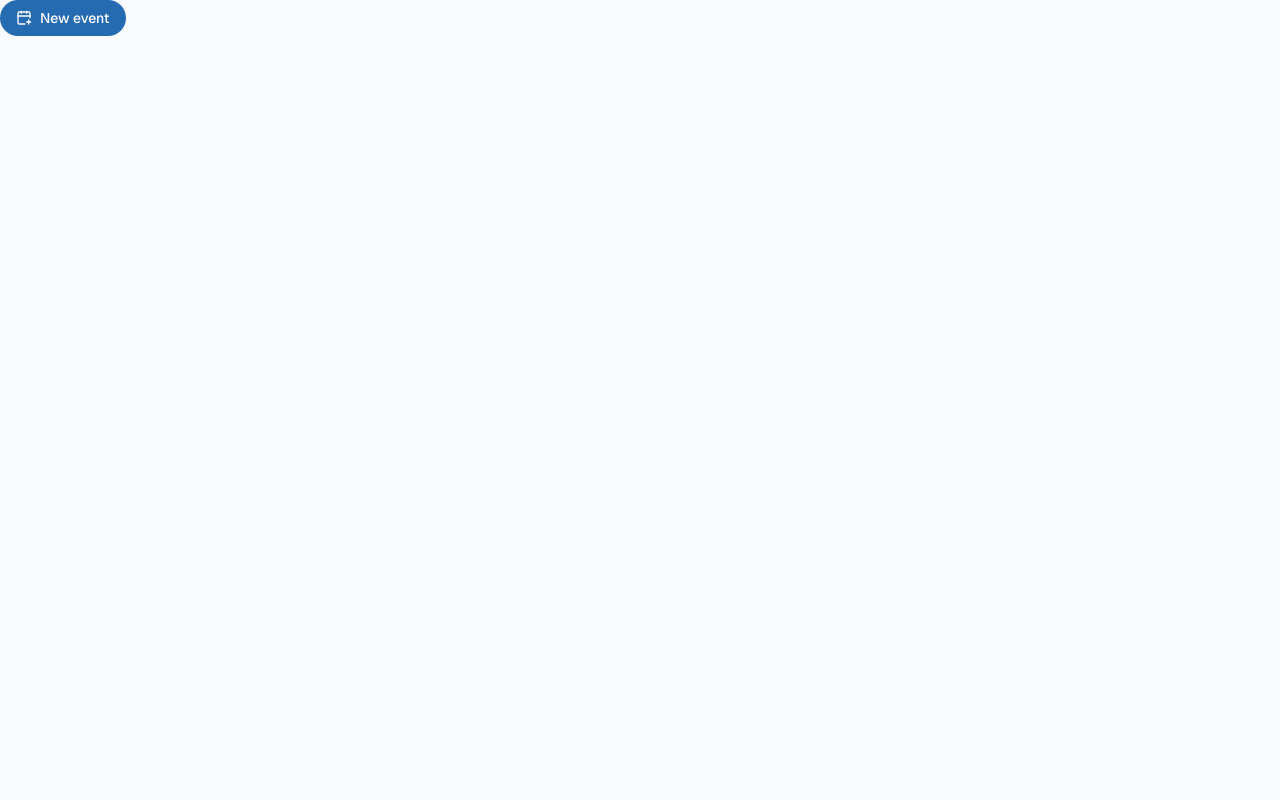
Test: event dialog › keeps entered clock times when the time zone changes and supports all-day ranges
Later steps or results of the test are not shown.
Click the button "New event" at (63, 18), box [0,0,126,36]
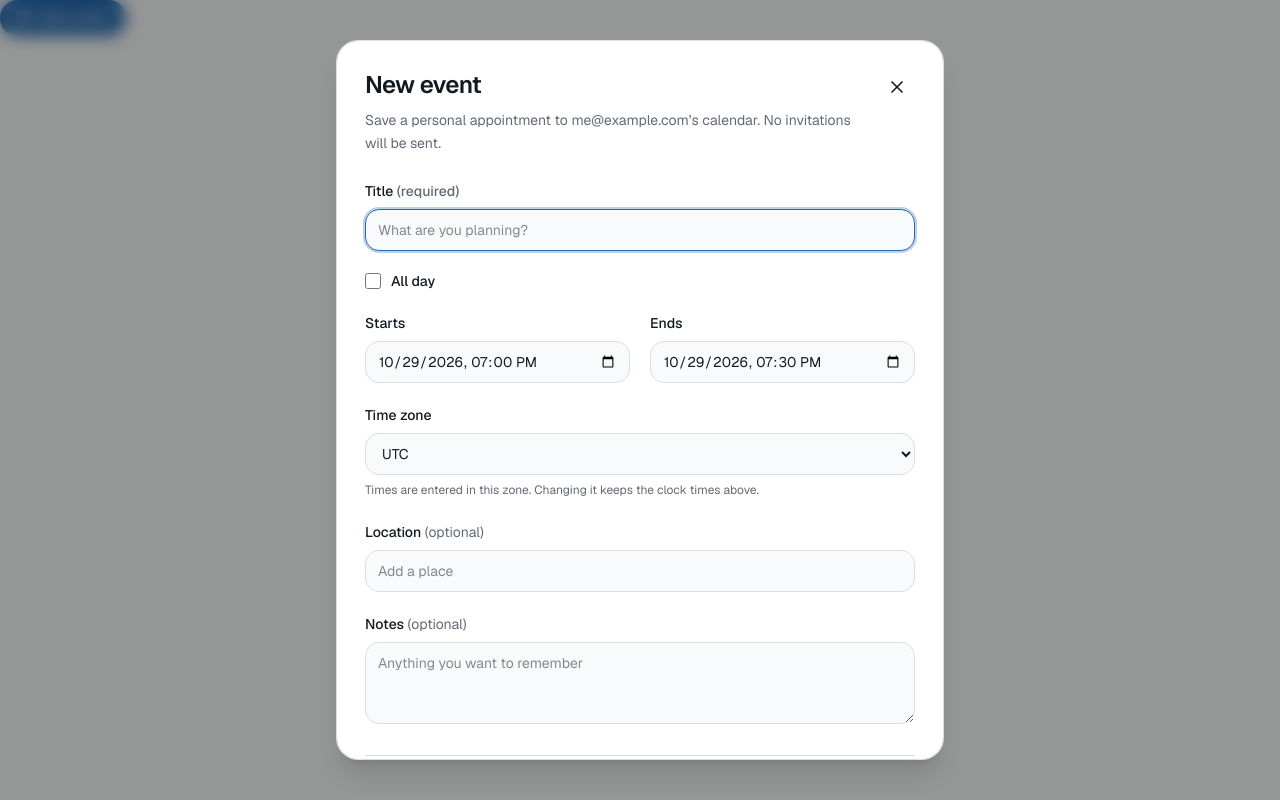
expect the dropdown labelled "Time zone" is enabled: met, box [365,432,915,474]
Type "Focus time" into the field labelled "Title (required)" at (640, 230), box [365,208,915,250]
Replace the text in the field labelled "Starts" with "2030-06-12T10:00" at (498, 362), box [365,340,630,382]
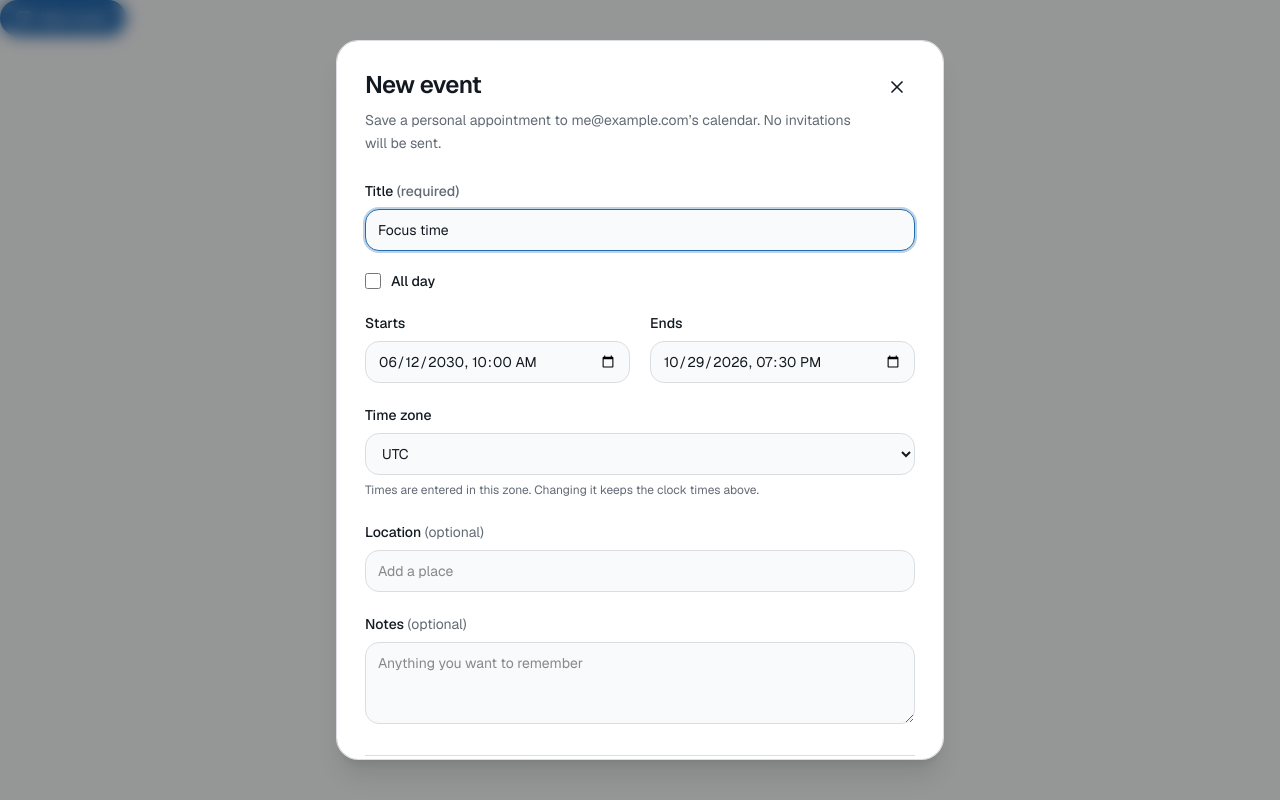
Replace the text in the field labelled "Ends" with "2030-06-12T10:30" at (782, 362), box [650,340,915,382]
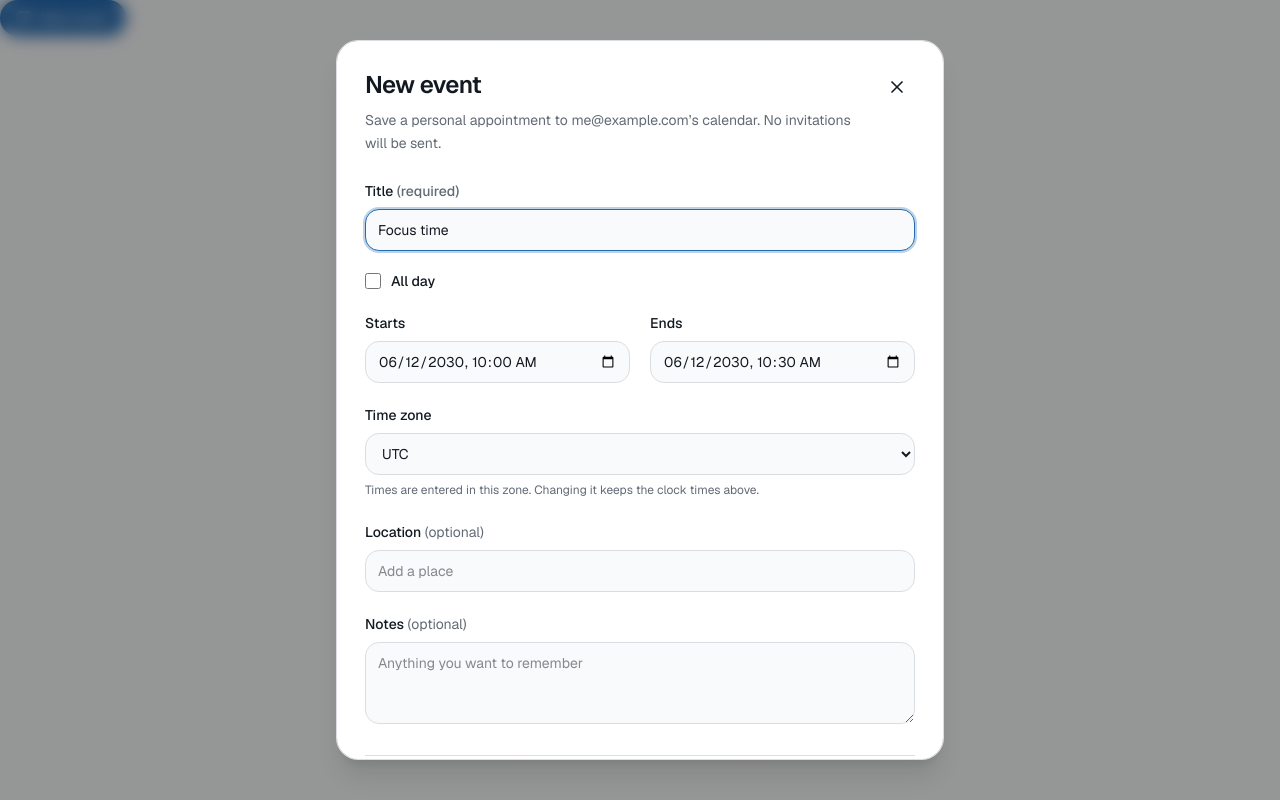
Select "America/New_York" in the dropdown labelled "Time zone" at (640, 454), box [365,432,915,474]
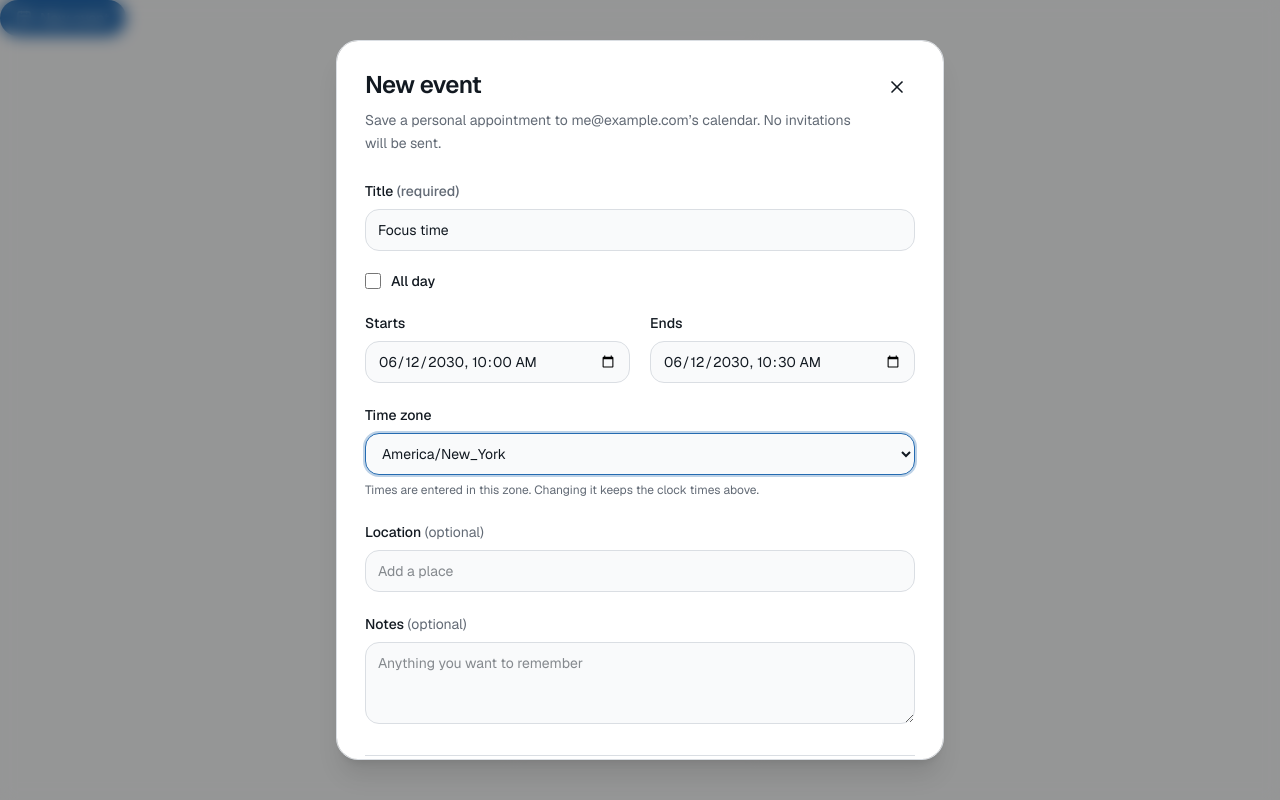
Select "Asia/Tokyo" in the dropdown labelled "Time zone" at (640, 454), box [365,432,915,474]
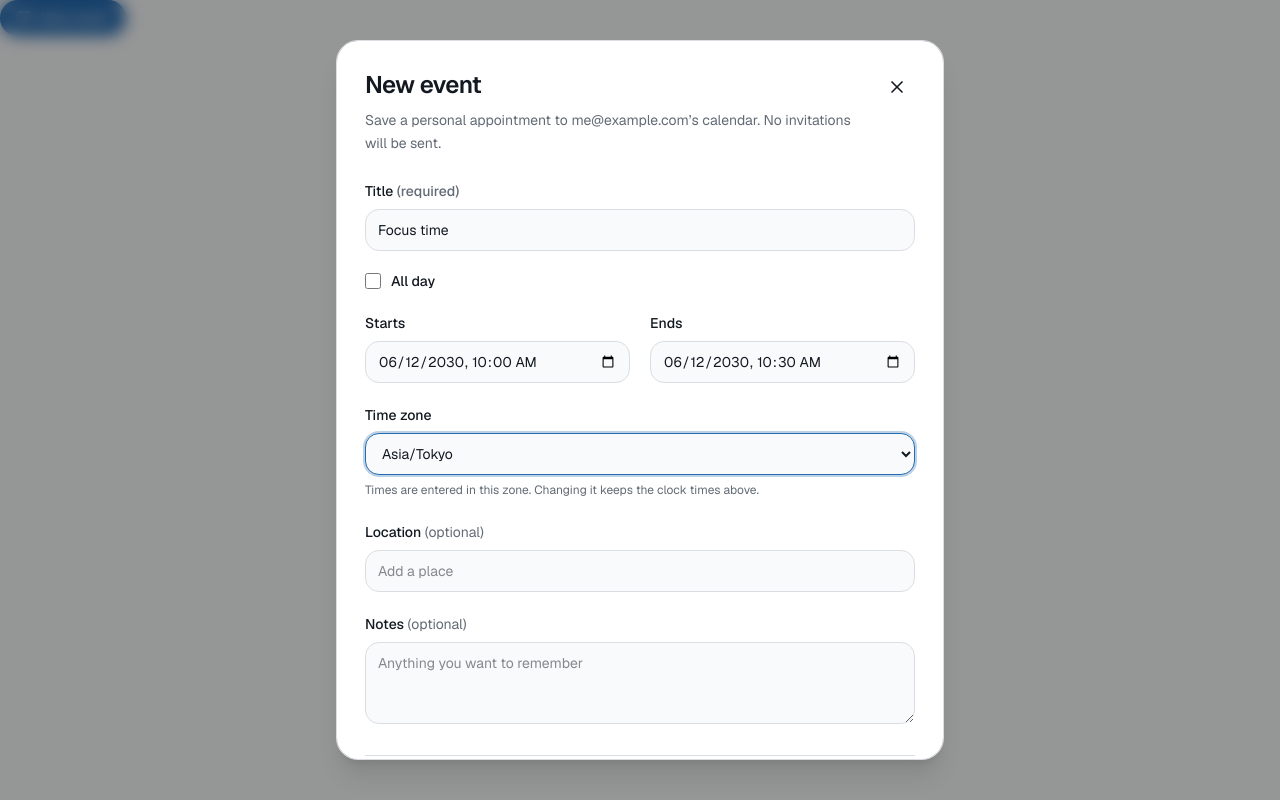
Click the checkbox labelled "All day" at (373, 280), box [365,272,381,288]
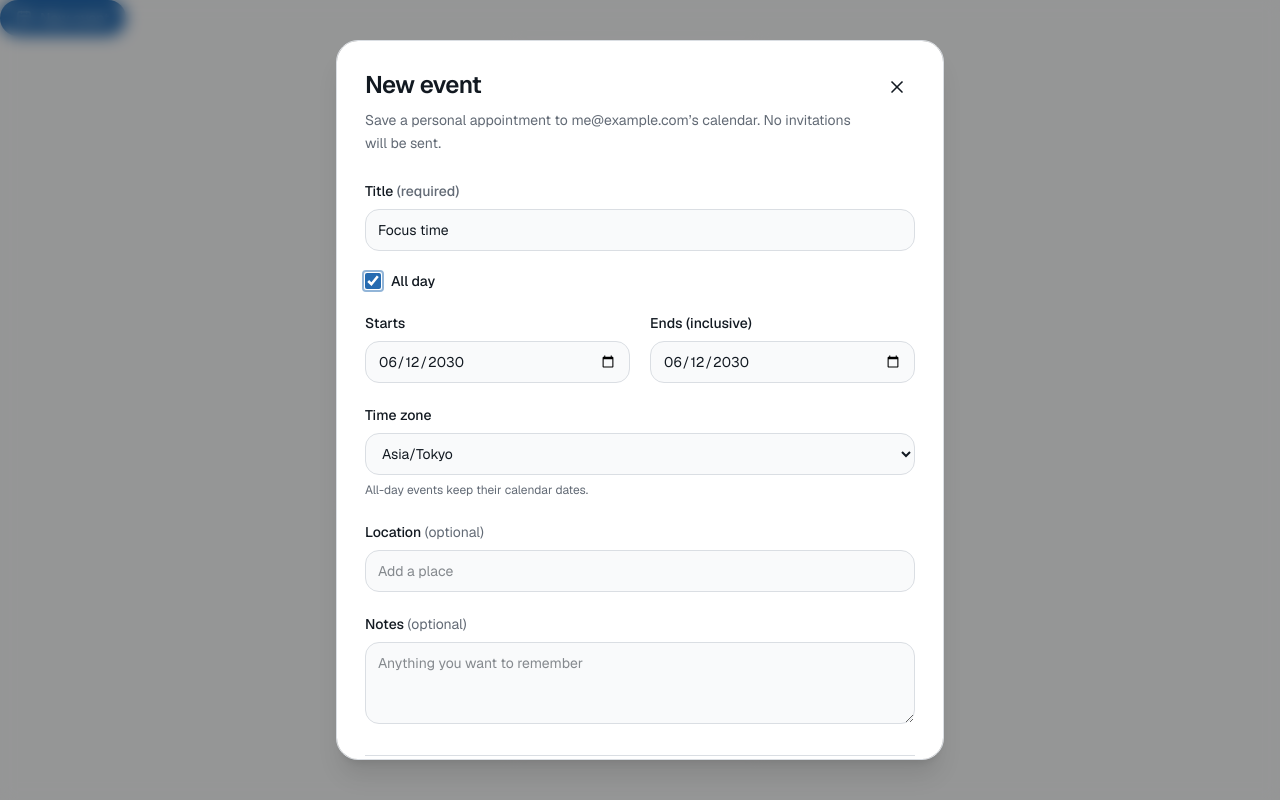
expect the date field labelled "Ends (inclusive)" holds "2030-06-12": met, box [650,340,915,382]
